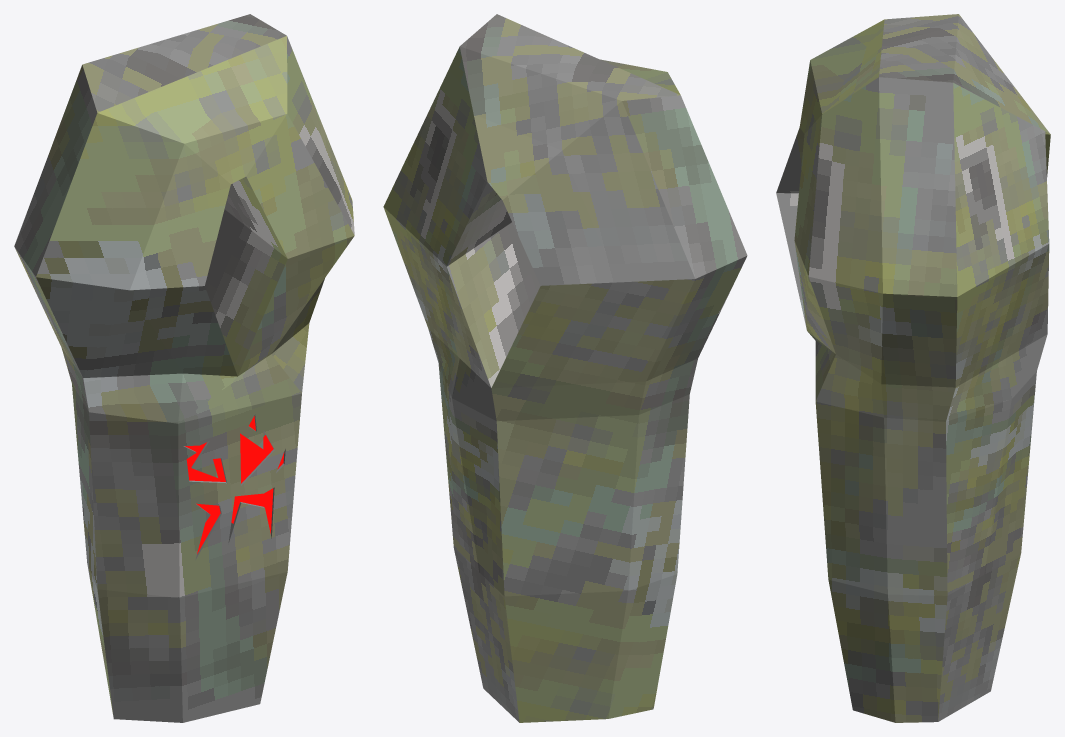
The model's file is Altar.fbx.
3 renders of one model, left to right at view 1: azimuth 30°, elevation 25°; view 2: azimuth 150°, elevation 25°; view 3: azimuth 270°, elevation 25°, orthographic.
Parts seen in each view (by area): view 1: Cylinder.001; view 2: Cylinder.001; view 3: Cylinder.001.
Boxes of the visible parts, box(x1,y1,x2,y2) form: Cylinder.001: box(14, 14, 354, 722); Cylinder.001: box(383, 14, 747, 722); Cylinder.001: box(776, 14, 1050, 722).
Size of the model in its own units: 91.29 by 174 by 66.41.
2 materials, 1 textured.
